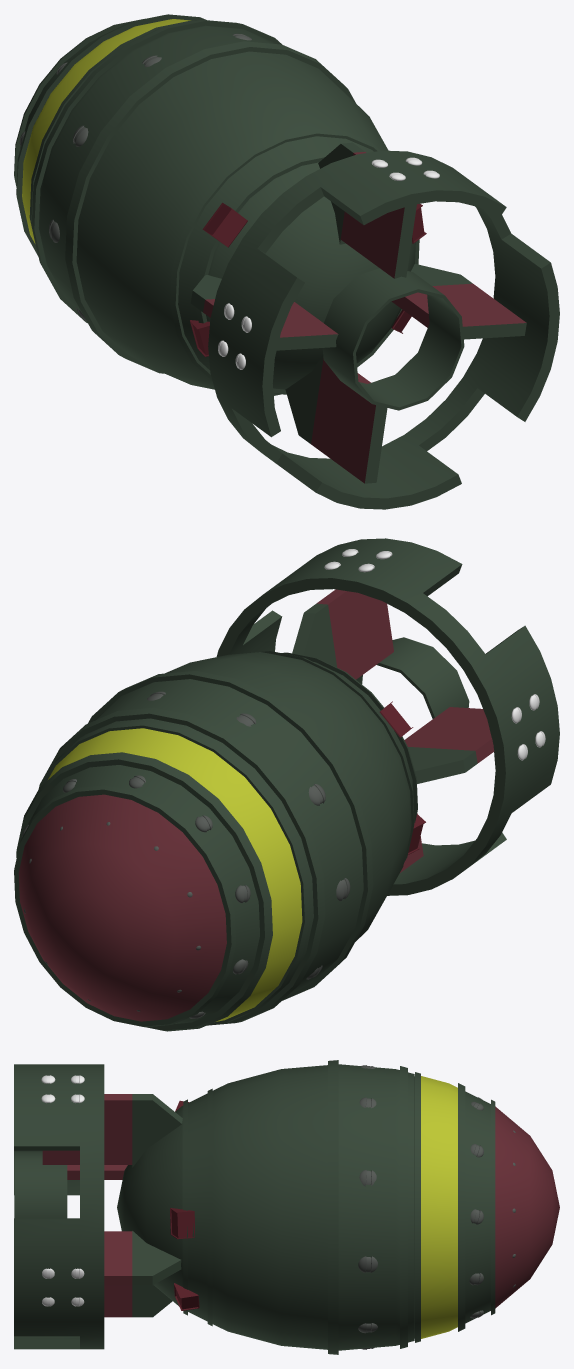
The model's file is NukeRocket.fbx.
3 renders of one model, top to bottom at view 1: azimuth 30°, elevation 25°; view 2: azimuth 150°, elevation 25°; view 3: azimuth 270°, elevation 25°, orthographic. The views are drawn at different scales.
Visible parts, largest first — view 1: Sphere_5_4, Tube, Sweep, Cube_2_2, Cube_1, Cube_3_2, Cube_5, Cube_3; view 2: Sphere_5_4, Tube, Cube_3_2, Cube_5, Sweep; view 3: Sphere_5_4, Tube, Cube_3_2, Sweep, Cube_1, Cube_2_2, Cube_2, Cube_5, Cube.
Boxes of the visible parts, x1,y1,x2,y2 form: Sphere_5_4: (14, 14, 419, 395); Tube: (208, 150, 559, 509); Sweep: (322, 268, 464, 410); Cube_2_2: (285, 354, 387, 483); Cube_1: (391, 264, 526, 339); Cube_3_2: (318, 142, 416, 278); Cube_5: (190, 275, 338, 350); Cube_3: (202, 202, 247, 247); Sphere_5_4: (14, 651, 417, 1031); Tube: (216, 538, 559, 895); Cube_3_2: (292, 589, 393, 679); Cube_5: (404, 707, 494, 783); Sweep: (356, 637, 469, 718); Sphere_5_4: (117, 1060, 559, 1354); Tube: (14, 1064, 104, 1349); Cube_3_2: (42, 1094, 182, 1167); Sweep: (14, 1151, 67, 1218); Cube_1: (104, 1231, 181, 1285); Cube_2_2: (104, 1285, 172, 1317); Cube_2: (170, 1208, 194, 1239); Cube_5: (67, 1165, 127, 1179); Cube: (174, 1283, 199, 1310).
Bounding box in the file's own units: 103 × 104 × 192.
